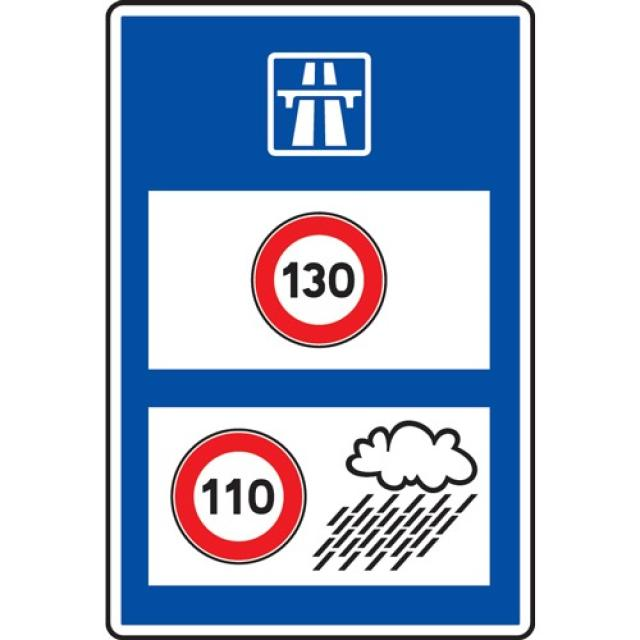speed: (170, 428, 302, 563), (253, 212, 384, 346)
